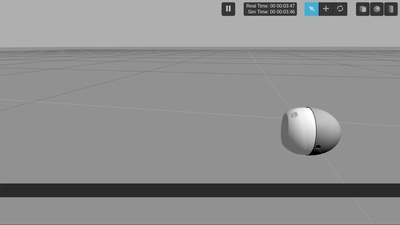mira_robot: (280, 107, 341, 156)
